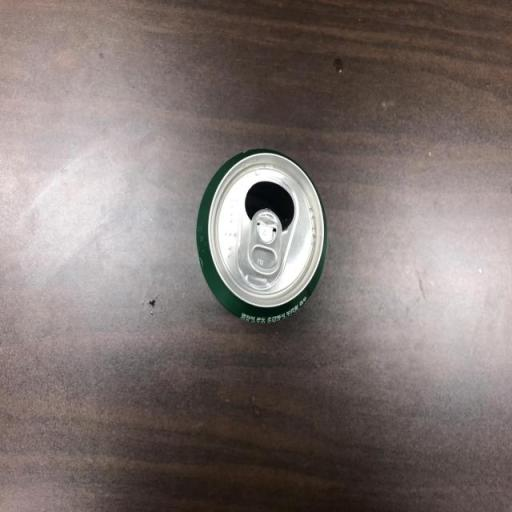metal: (169, 120, 346, 352)
